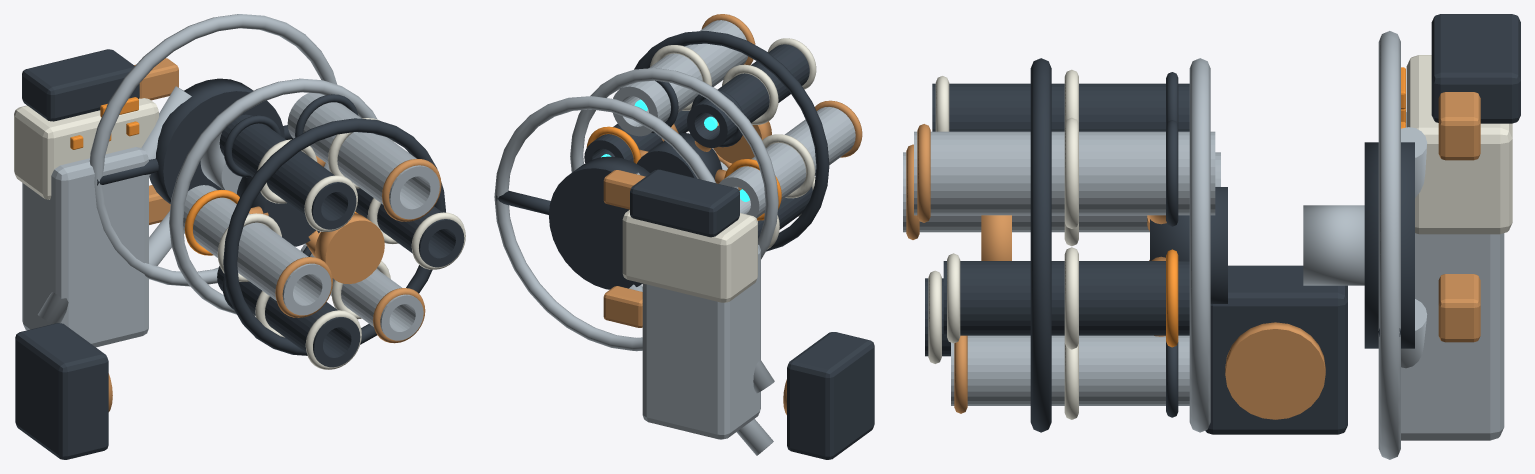
The model's file is M01-019_six_tube_smoke_launcher.fbx.
The picture shows the model from 3 angles, left to right: view 1: azimuth 30°, elevation 25°; view 2: azimuth 150°, elevation 25°; view 3: azimuth 270°, elevation 25°; orthographic projection. The views are drawn at different scales.
Visible parts, largest first — view 1: M01-019_Receiver_spine, M01-019_Side_mount_foot, M01-019_Fixed_guard_hoop, M01-019_Open_bore_03, M01-019_Open_bore_01, M01-019_Drum_Front_retainer, M01-019_Ceramic_receiver_shield, M01-019_Open_bore_02, M01-019_Receiver_upper, M01-019_Drum_Rear_retainer, M01-019_Bearing_rear_plate, M01-019_Open_bore_04 (+23 smaller); view 2: M01-019_Receiver_spine, M01-019_Side_mount_foot, M01-019_Ceramic_receiver_shield, M01-019_Bearing_rear_plate, M01-019_Fixed_guard_hoop, M01-019_Receiver_upper, M01-019_Drum_Rear_retainer, M01-019_Drum_Front_retainer, M01-019_Open_bore_03, M01-019_Open_bore_01, M01-019_Open_bore_02, M01-019_Drum_hub (+18 smaller); view 3: M01-019_Open_bore_01, M01-019_Receiver_spine, M01-019_Side_mount_foot, M01-019_Open_bore_00, M01-019_Open_bore_05, M01-019_Ceramic_receiver_shield, M01-019_Open_bore_02, M01-019_Fixed_guard_hoop, M01-019_Receiver_upper, M01-019_Drum_Rear_retainer, M01-019_Drum_Front_retainer, M01-019_Mount_lock (+23 smaller).
Boxes of the visible parts, bbox=[...] form: M01-019_Receiver_spine: bbox=[22, 147, 148, 347]; M01-019_Side_mount_foot: bbox=[15, 323, 108, 459]; M01-019_Fixed_guard_hoop: bbox=[89, 14, 337, 286]; M01-019_Open_bore_03: bbox=[183, 185, 331, 315]; M01-019_Open_bore_01: bbox=[287, 93, 439, 219]; M01-019_Drum_Front_retainer: bbox=[223, 118, 445, 355]; M01-019_Ceramic_receiver_shield: bbox=[14, 98, 158, 199]; M01-019_Open_bore_02: bbox=[219, 114, 356, 229]; M01-019_Receiver_upper: bbox=[22, 49, 139, 121]; M01-019_Drum_Rear_retainer: bbox=[169, 78, 377, 316]; M01-019_Bearing_rear_plate: bbox=[149, 78, 284, 203]; M01-019_Open_bore_04: bbox=[217, 266, 360, 367]; M01-019_Receiver_spine: bbox=[642, 245, 760, 439]; M01-019_Side_mount_foot: bbox=[787, 332, 874, 459]; M01-019_Ceramic_receiver_shield: bbox=[622, 210, 757, 302]; M01-019_Bearing_rear_plate: bbox=[549, 156, 650, 289]; M01-019_Fixed_guard_hoop: bbox=[494, 96, 715, 351]; M01-019_Receiver_upper: bbox=[630, 169, 739, 237]; M01-019_Drum_Rear_retainer: bbox=[570, 68, 778, 259]; M01-019_Drum_Front_retainer: bbox=[634, 31, 829, 251]; M01-019_Open_bore_03: bbox=[719, 107, 855, 218]; M01-019_Open_bore_01: bbox=[613, 20, 747, 136]; M01-019_Open_bore_02: bbox=[687, 44, 809, 147]; M01-019_Drum_hub: bbox=[637, 133, 722, 179]; M01-019_Open_bore_01: bbox=[914, 131, 1215, 215]; M01-019_Receiver_spine: bbox=[1401, 112, 1504, 440]; M01-019_Side_mount_foot: bbox=[1205, 265, 1347, 434]; M01-019_Open_bore_00: bbox=[943, 261, 1189, 335]; M01-019_Open_bore_05: bbox=[951, 335, 1189, 405]; M01-019_Ceramic_receiver_shield: bbox=[1406, 55, 1512, 234]; M01-019_Open_bore_02: bbox=[932, 83, 1189, 131]; M01-019_Fixed_guard_hoop: bbox=[1378, 31, 1400, 459]; M01-019_Receiver_upper: bbox=[1431, 14, 1520, 123]; M01-019_Drum_Rear_retainer: bbox=[1189, 58, 1210, 432]; M01-019_Drum_Front_retainer: bbox=[1030, 58, 1051, 432]; M01-019_Mount_lock: bbox=[1225, 322, 1325, 419].
Size of the model in its own units: 105 by 100 by 111.
